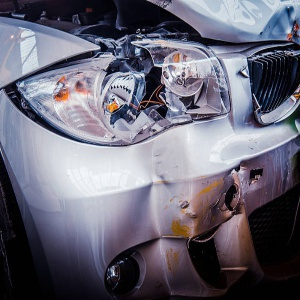head_lights: (29, 41, 233, 138)
